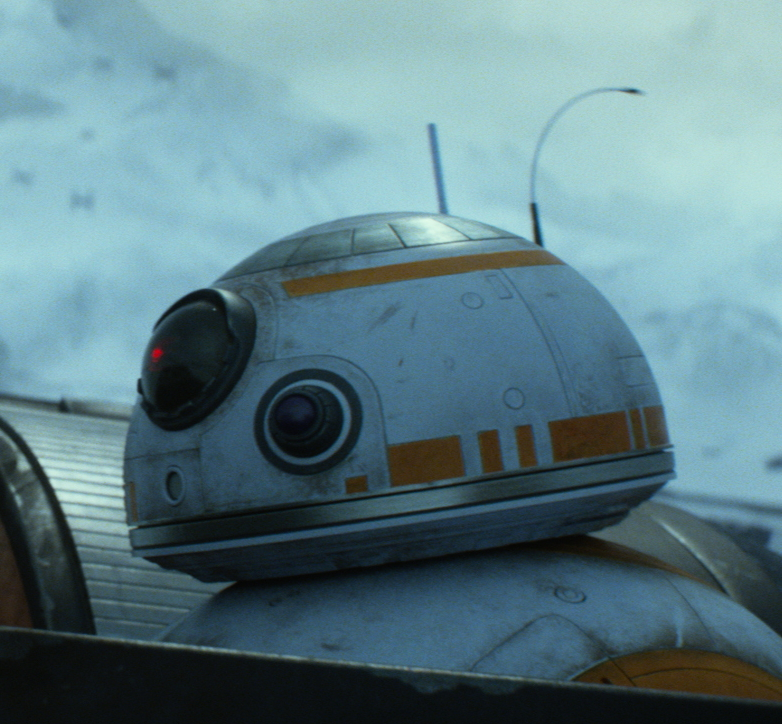bb8: (122, 211, 782, 702)
